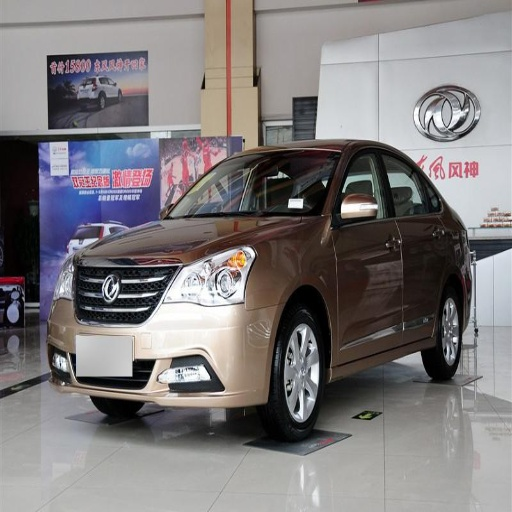front_bumper: (47, 256, 280, 406)
front_glass: (164, 152, 338, 218)
front_left_door: (332, 146, 402, 356)
trunk: (395, 28, 508, 109)
